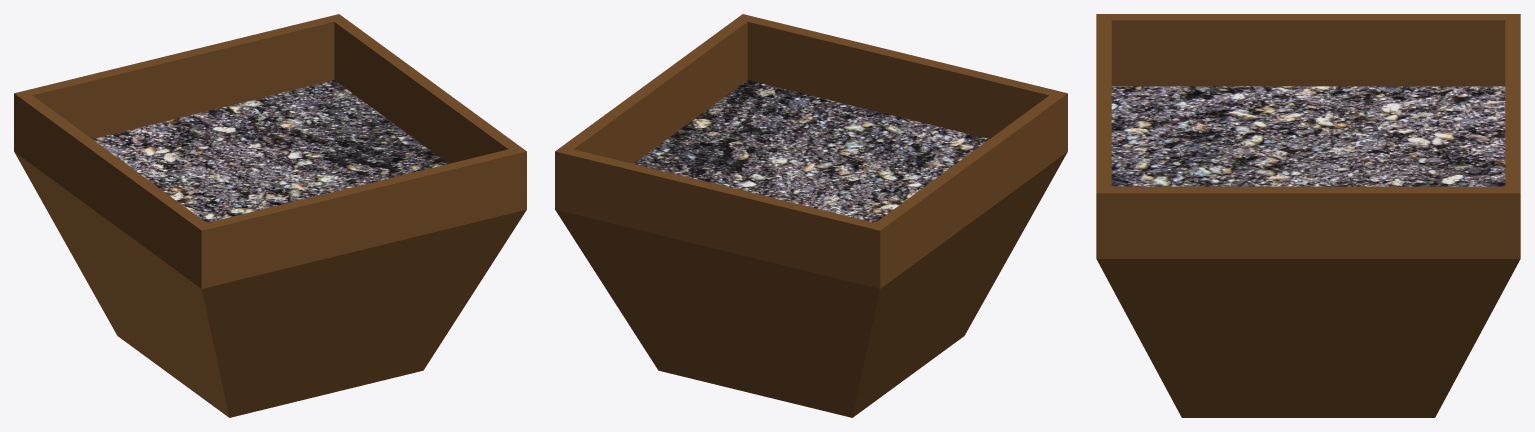
Rendered from plant_base_Single.fbx.
3 views of the same model, side by side, from view 1: azimuth 30°, elevation 25°; view 2: azimuth 150°, elevation 25°; view 3: azimuth 270°, elevation 25° (orthographic). The views are drawn at different scales.
Parts seen in each view (by area): view 1: plant_base_single; view 2: plant_base_single; view 3: plant_base_single.
Boxes of the visible parts, x1,y1,x2,y2 form: plant_base_single: (14,14,526,417); plant_base_single: (555,14,1067,417); plant_base_single: (1096,14,1520,417).
Bounding box in the file's own units: 1.68 × 1.14 × 1.68.
